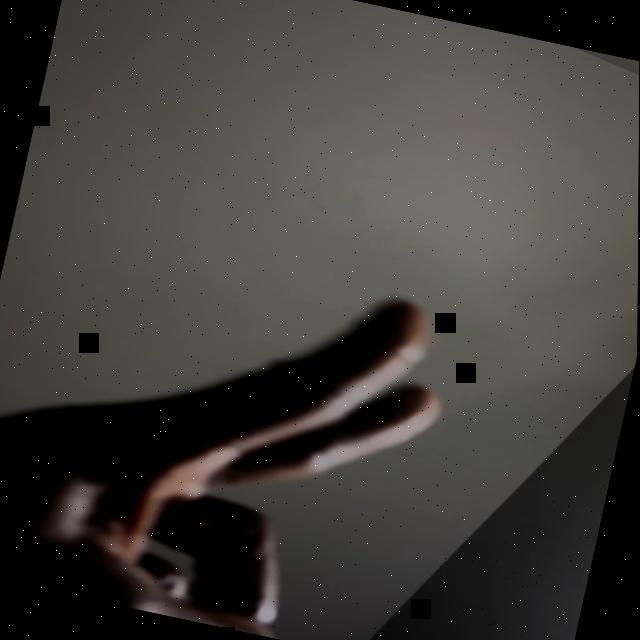Scissors: (0, 213, 466, 640)
